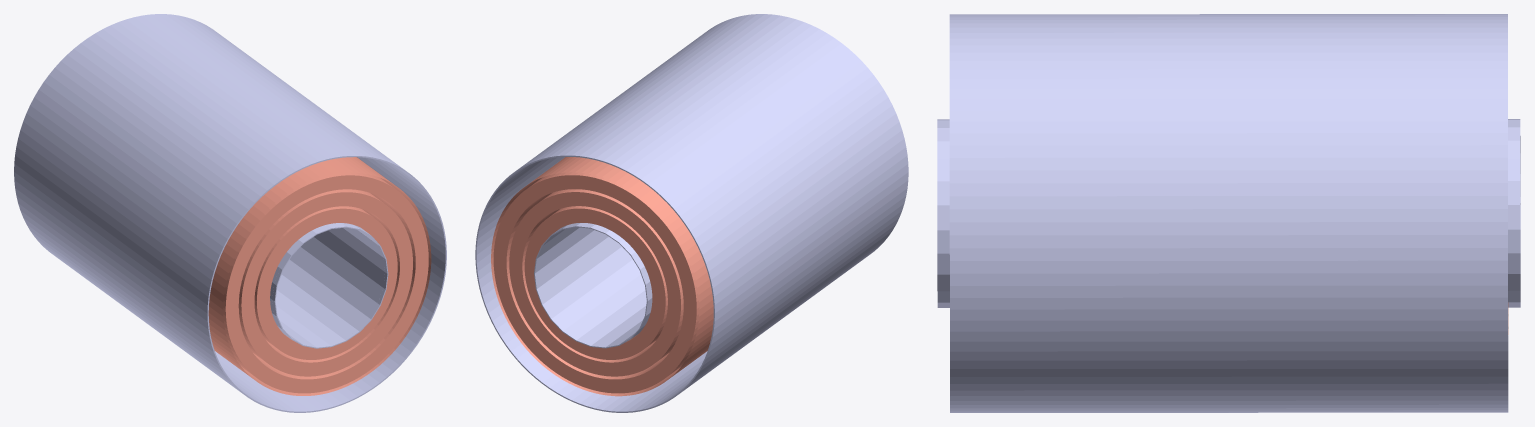
Rendered from SCT_BAR.gltf.
The picture shows the model from 3 angles, left to right: view 1: azimuth 30°, elevation 25°; view 2: azimuth 150°, elevation 25°; view 3: azimuth 270°, elevation 25°; orthographic projection. The views are drawn at different scales.
Parts seen in each view (by area): view 1: _045FB738, _045D55E8, _0473D978; view 2: _045FB738, _045D55E8, _0473D978; view 3: _045FB738, _0473D978.
Part boxes in pixels (<box>): _045FB738: <box>14,14,446,412</box>; _045D55E8: <box>208,157,431,395</box>; _0473D978: <box>270,223,388,348</box>; _045FB738: <box>475,14,908,412</box>; _045D55E8: <box>491,157,713,396</box>; _0473D978: <box>534,223,652,348</box>; _045FB738: <box>949,14,1508,412</box>; _0473D978: <box>937,119,1520,307</box>.
Bounding box in the file's own units: 1.09 × 1.09 × 1.6.
